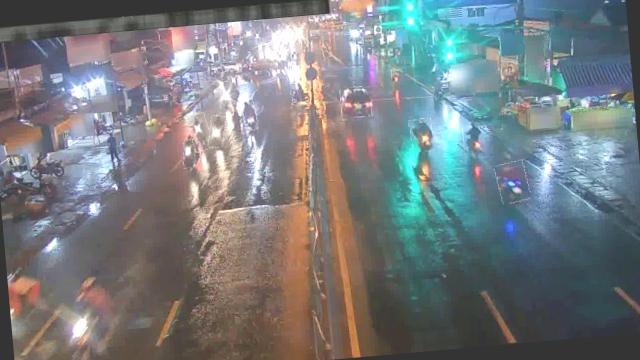Bike: (496, 160, 530, 204), (188, 112, 213, 151), (409, 118, 434, 152), (463, 124, 483, 158), (208, 115, 228, 148), (242, 99, 258, 131), (290, 82, 310, 105), (182, 140, 196, 169), (219, 82, 231, 108), (229, 84, 240, 108), (391, 66, 404, 86)
Car: (338, 86, 372, 121)
